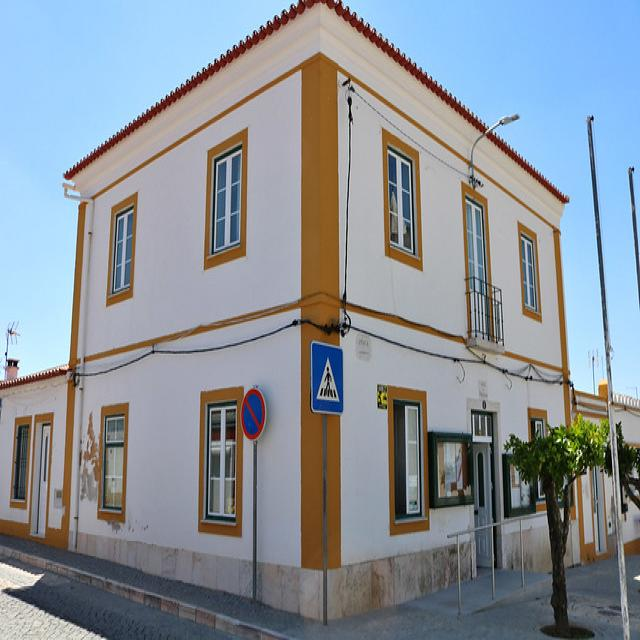Normal_building: (59, 4, 576, 630)
